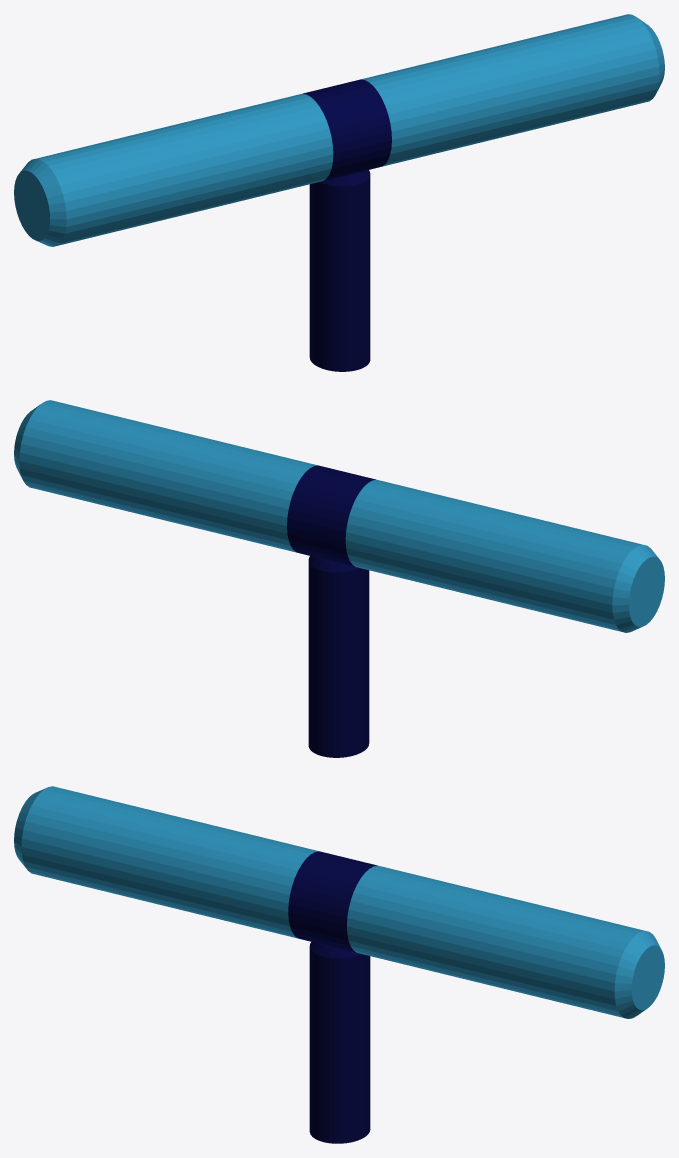
Rendered from DönenSilindir.fbx.
The picture shows the model from 3 angles, top to bottom: view 1: azimuth 30°, elevation 25°; view 2: azimuth 150°, elevation 25°; view 3: azimuth 330°, elevation 25°; orthographic projection.
Visible parts, largest first — view 1: Üst, Alt; view 2: Üst, Alt; view 3: Üst, Alt.
Part boxes in pixels (x1,y1,x2,y2): Üst: (14,14,664,246); Alt: (309,170,370,371); Üst: (14,400,664,632); Alt: (308,556,369,757); Üst: (14,786,664,1018); Alt: (309,942,370,1143).
Bounding box in the file's own units: 359 × 150 × 45.52.
